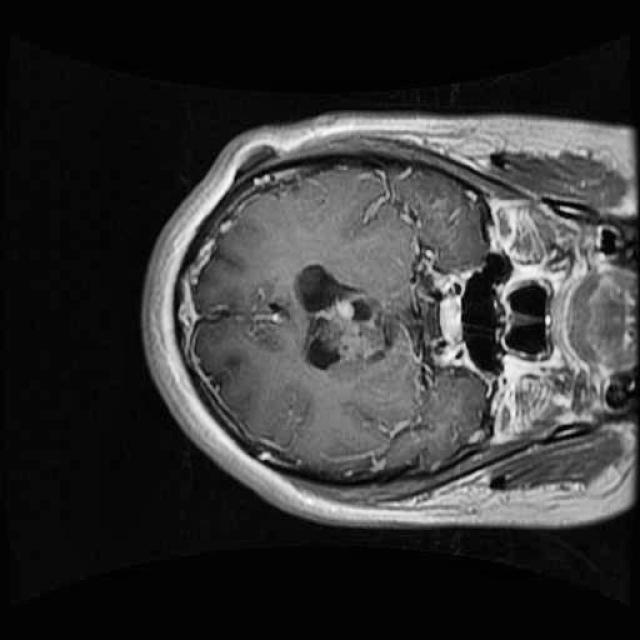Non-Tumor: (325, 281, 409, 375)
